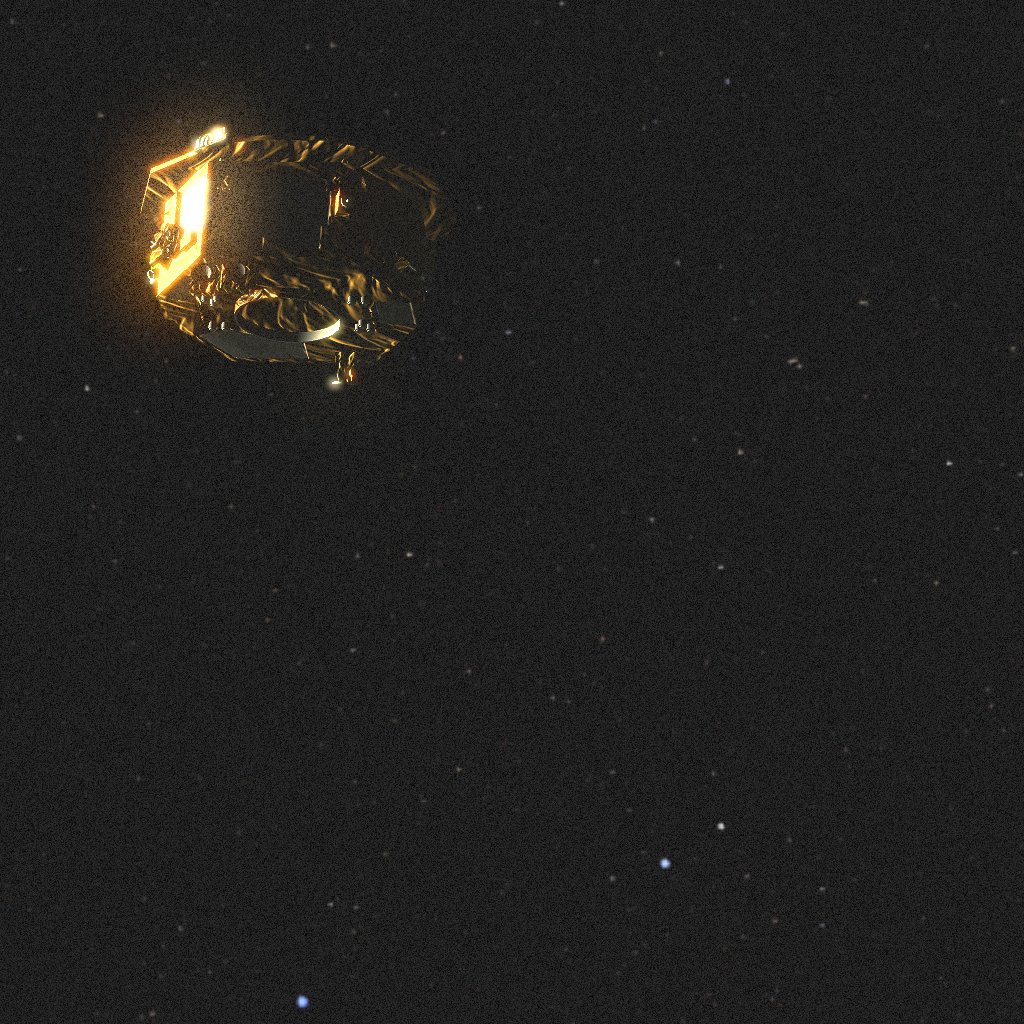lisa_pathfinder: (141, 127, 458, 384)
